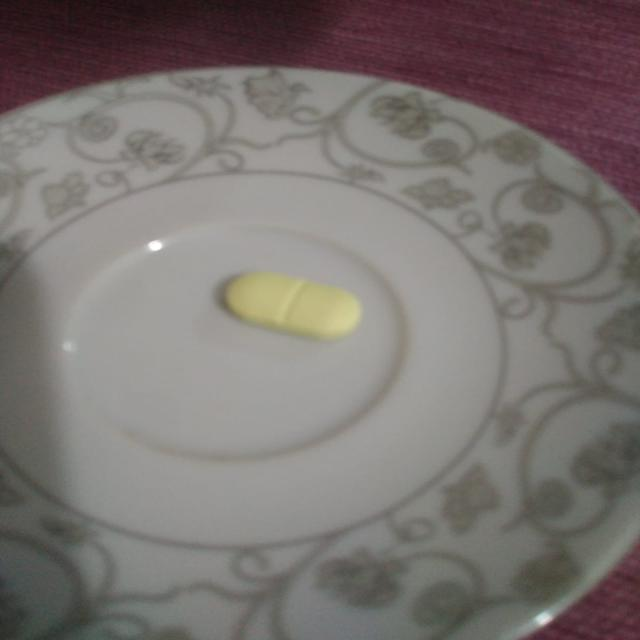pills: (218, 262, 384, 355)
